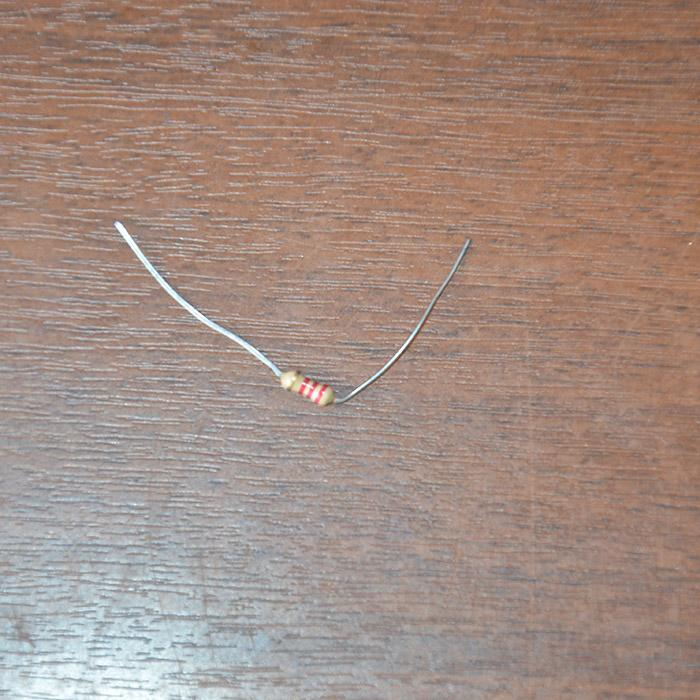resistor: (278, 368, 334, 407)
